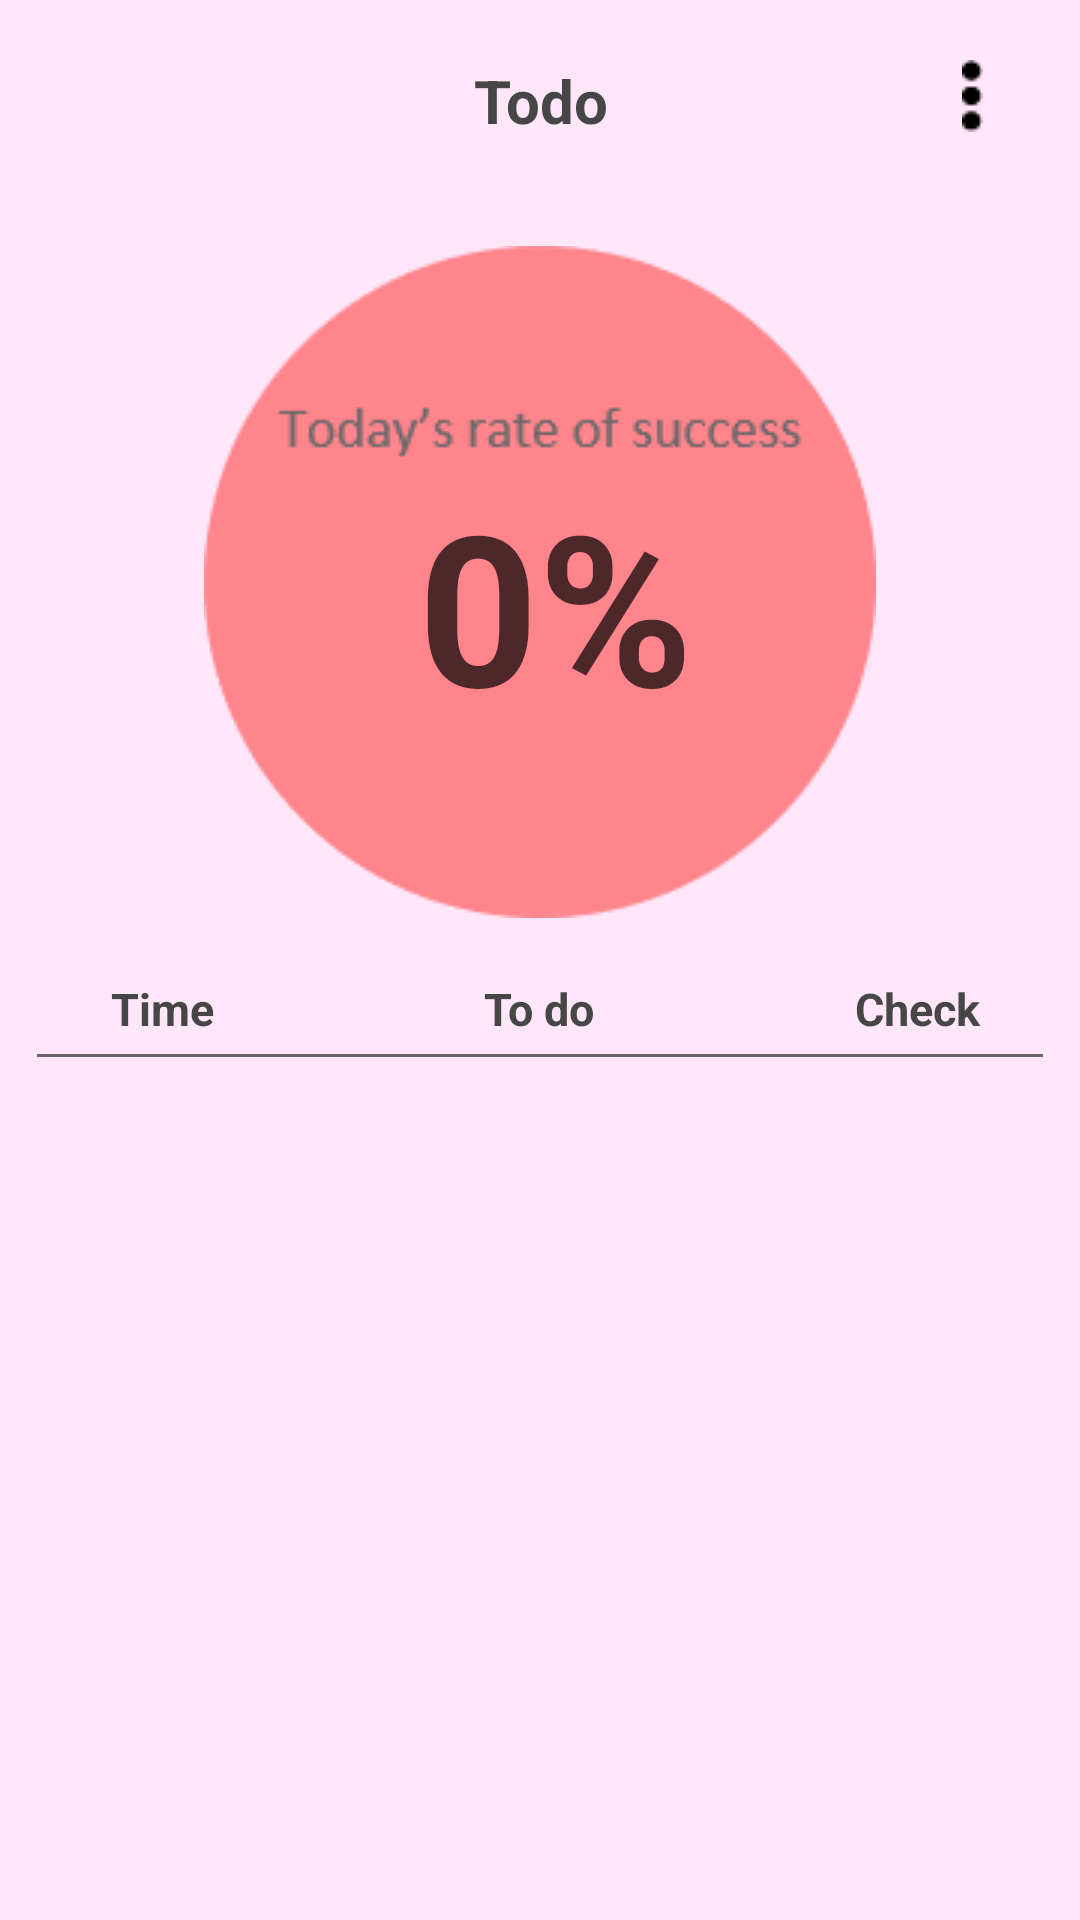

Named icons in this screenshot (1080 x 1920) and their centers, (x=x, y=y):
menu: (x=972, y=96)
